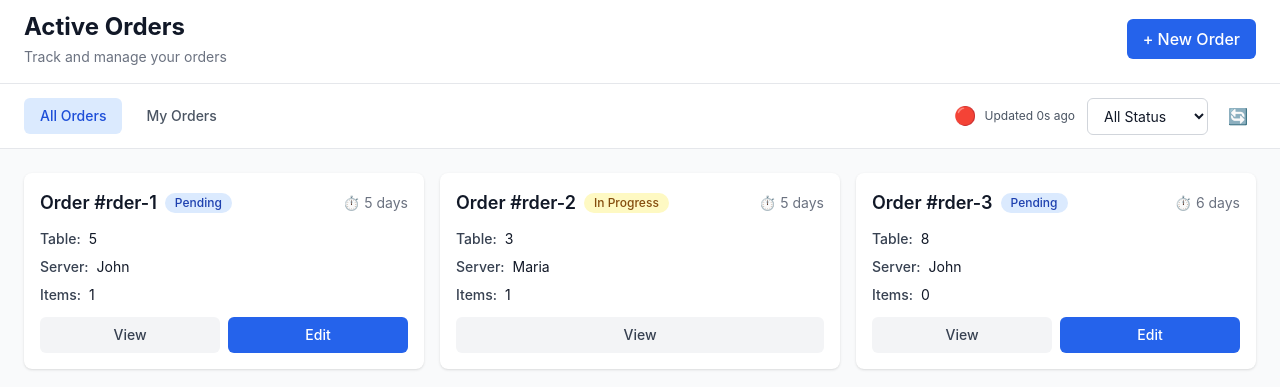
OrdersPage › filters orders by status when status filter is changed
Select "Pending" in the dropdown at {"x": 1148, "y": 116}, box x1=1087 y1=98 x2=1208 y2=134
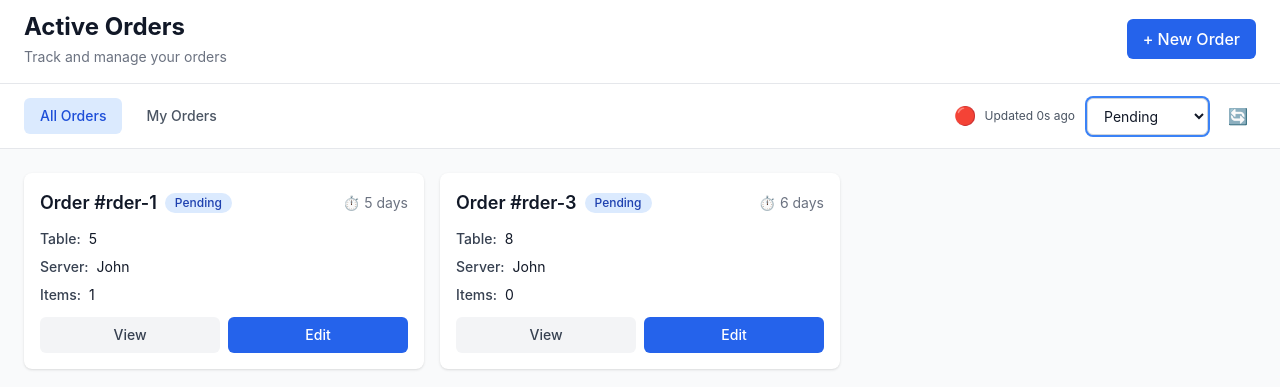
Expected: the heading "Order #rder-1" is shown, x1=40 y1=189 x2=157 y2=217
Now the heading "Order #rder-2" is gone
